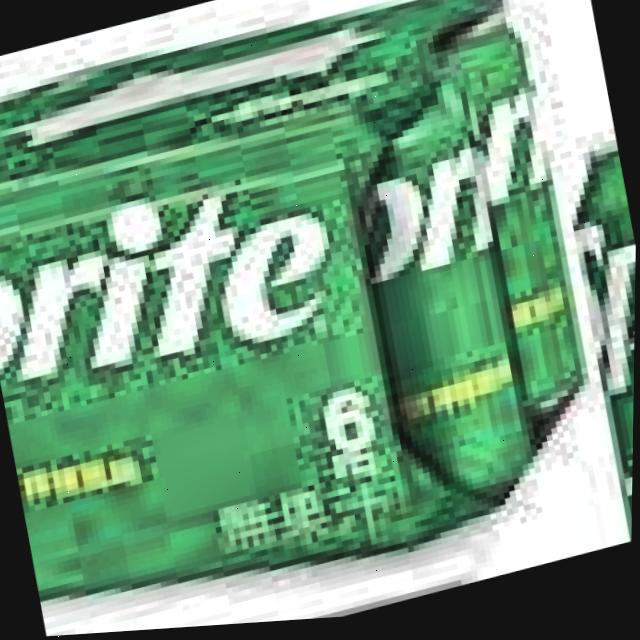metal: (329, 47, 566, 552), (420, 0, 603, 442), (523, 123, 638, 561)
